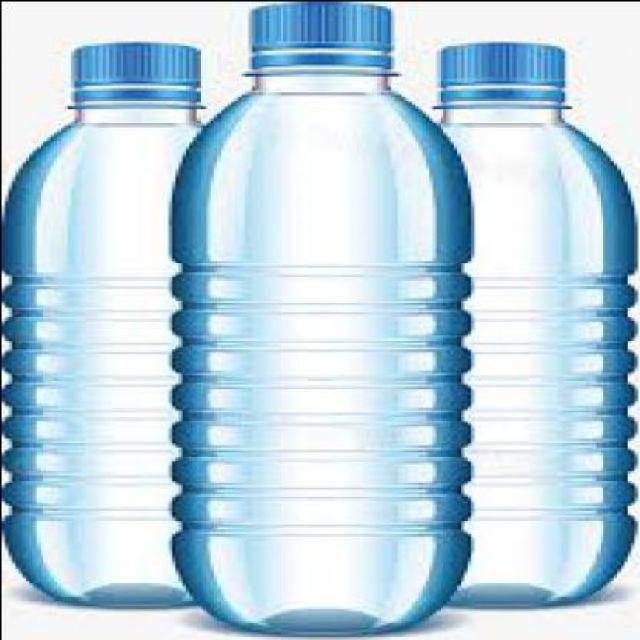PLASTIC: (172, 1, 477, 634), (428, 39, 638, 598), (6, 38, 212, 605), (254, 1, 400, 65), (73, 39, 205, 101), (438, 40, 567, 103)
